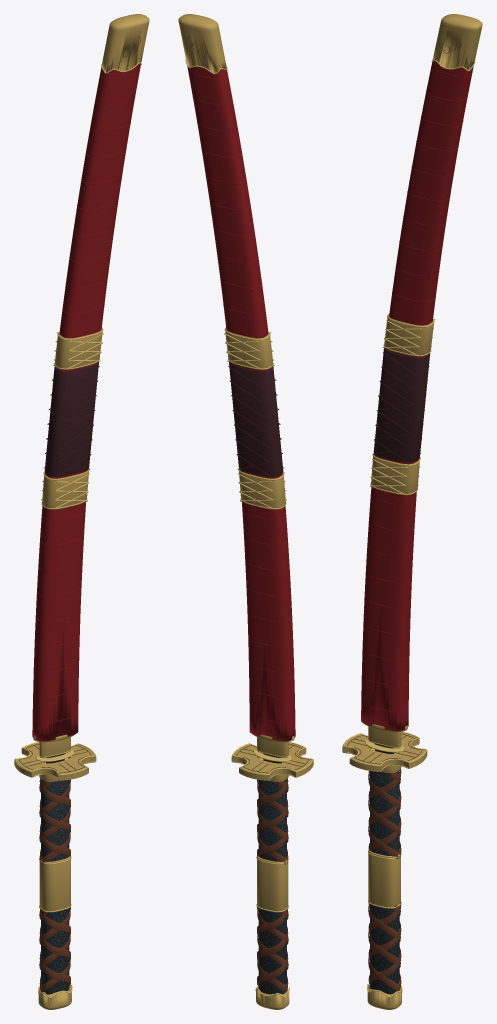
The model's file is sandai.glb.
The picture shows the model from 3 angles, left to right: view 1: azimuth 30°, elevation 25°; view 2: azimuth 150°, elevation 25°; view 3: azimuth 330°, elevation 25°; orthographic projection. The views are drawn at different scales.
Visible parts, largest first — view 1: Sandai_Kitetsu.Saya_shell, Sandai_Kitetsu.Saya_center_binding, Sandai_Kitetsu.Samegawa, Sandai_Kitetsu.Kojiri, Sandai_Kitetsu.Tsuba, Sandai_Kitetsu.Tsuka_center_ferrule, Sandai_Kitetsu.Saya_gold_band.001, Sandai_Kitetsu.Saya_gold_band, Sandai_Kitetsu.Kashira, Sandai_Kitetsu.Tsukamaki_-1.002, Sandai_Kitetsu.Tsukamaki_-1, Sandai_Kitetsu.Habaki (+2 smaller); view 2: Sandai_Kitetsu.Saya_shell, Sandai_Kitetsu.Saya_center_binding, Sandai_Kitetsu.Samegawa, Sandai_Kitetsu.Kojiri, Sandai_Kitetsu.Tsuba, Sandai_Kitetsu.Tsuka_center_ferrule, Sandai_Kitetsu.Saya_gold_band.001, Sandai_Kitetsu.Saya_gold_band, Sandai_Kitetsu.Kashira, Sandai_Kitetsu.Tsukamaki_1.002, Sandai_Kitetsu.Tsukamaki_1, Sandai_Kitetsu.Habaki (+2 smaller); view 3: Sandai_Kitetsu.Saya_shell, Sandai_Kitetsu.Saya_center_binding, Sandai_Kitetsu.Samegawa, Sandai_Kitetsu.Kojiri, Sandai_Kitetsu.Tsuba, Sandai_Kitetsu.Tsuka_center_ferrule, Sandai_Kitetsu.Saya_gold_band, Sandai_Kitetsu.Saya_gold_band.001, Sandai_Kitetsu.Kashira, Sandai_Kitetsu.Tsukamaki_-1, Sandai_Kitetsu.Tsukamaki_-1.002, Sandai_Kitetsu.Habaki (+3 smaller).
Boxes of the visible parts, left/top/right/bottom form: Sandai_Kitetsu.Saya_shell: left=32, top=63, right=140, bottom=741; Sandai_Kitetsu.Saya_center_binding: left=44, top=361, right=98, bottom=476; Sandai_Kitetsu.Samegawa: left=41, top=779, right=69, bottom=994; Sandai_Kitetsu.Kojiri: left=102, top=14, right=149, bottom=72; Sandai_Kitetsu.Tsuba: left=14, top=743, right=96, bottom=780; Sandai_Kitetsu.Tsuka_center_ferrule: left=39, top=856, right=70, bottom=912; Sandai_Kitetsu.Saya_gold_band.001: left=54, top=327, right=102, bottom=369; Sandai_Kitetsu.Saya_gold_band: left=42, top=468, right=88, bottom=509; Sandai_Kitetsu.Kashira: left=38, top=985, right=71, bottom=1009; Sandai_Kitetsu.Tsukamaki_-1.002: left=39, top=778, right=70, bottom=856; Sandai_Kitetsu.Tsukamaki_-1: left=39, top=908, right=70, bottom=985; Sandai_Kitetsu.Habaki: left=39, top=737, right=70, bottom=757; Sandai_Kitetsu.Saya_shell: left=187, top=66, right=295, bottom=741; Sandai_Kitetsu.Saya_center_binding: left=229, top=361, right=283, bottom=476; Sandai_Kitetsu.Samegawa: left=258, top=779, right=286, bottom=994; Sandai_Kitetsu.Kojiri: left=178, top=14, right=226, bottom=73; Sandai_Kitetsu.Tsuba: left=231, top=743, right=313, bottom=780; Sandai_Kitetsu.Tsuka_center_ferrule: left=257, top=856, right=288, bottom=912; Sandai_Kitetsu.Saya_gold_band.001: left=225, top=327, right=273, bottom=369; Sandai_Kitetsu.Saya_gold_band: left=239, top=468, right=285, bottom=509; Sandai_Kitetsu.Kashira: left=256, top=986, right=289, bottom=1009; Sandai_Kitetsu.Tsukamaki_1.002: left=257, top=778, right=288, bottom=856; Sandai_Kitetsu.Tsukamaki_1: left=257, top=908, right=288, bottom=985; Sandai_Kitetsu.Habaki: left=257, top=737, right=288, bottom=757; Sandai_Kitetsu.Saya_shell: left=361, top=61, right=473, bottom=731; Sandai_Kitetsu.Saya_center_binding: left=373, top=348, right=430, bottom=462; Sandai_Kitetsu.Samegawa: left=370, top=770, right=399, bottom=994; Sandai_Kitetsu.Kojiri: left=432, top=14, right=482, bottom=70; Sandai_Kitetsu.Tsuba: left=342, top=732, right=427, bottom=771; Sandai_Kitetsu.Tsuka_center_ferrule: left=368, top=850, right=400, bottom=908; Sandai_Kitetsu.Saya_gold_band: left=371, top=453, right=419, bottom=495; Sandai_Kitetsu.Saya_gold_band.001: left=384, top=314, right=434, bottom=356; Sandai_Kitetsu.Kashira: left=367, top=985, right=401, bottom=1009; Sandai_Kitetsu.Tsukamaki_-1: left=368, top=904, right=400, bottom=991; Sandai_Kitetsu.Tsukamaki_-1.002: left=368, top=772, right=400, bottom=859; Sandai_Kitetsu.Habaki: left=368, top=726, right=401, bottom=748.
Size of the model in its own units: 0.6884 by 4.99 by 0.3824.
Materials: 10 (4 with a texture image).
